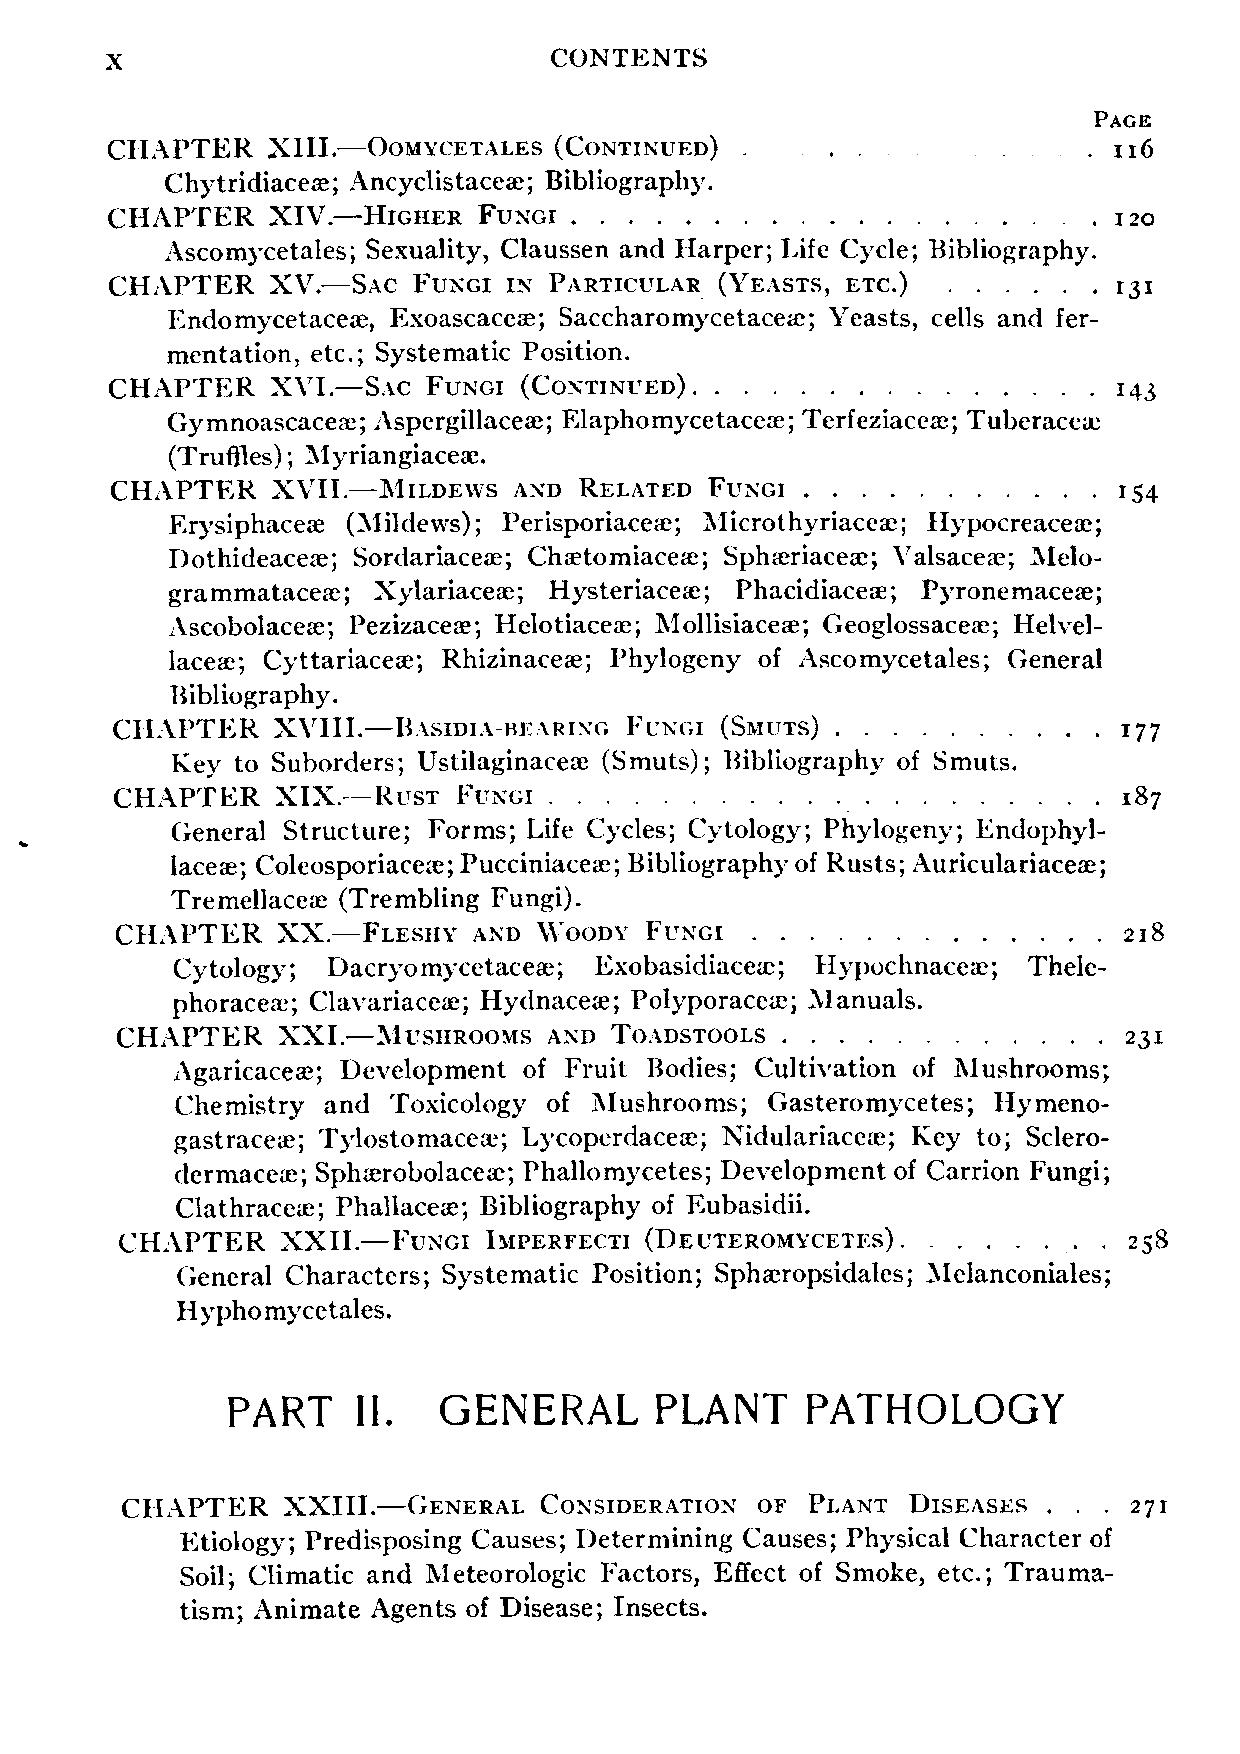TOC_chapter: (107, 476, 1108, 705), (109, 1019, 1113, 1224), (114, 1491, 1117, 1637), (111, 786, 1100, 914), (98, 268, 1100, 366), (109, 917, 1111, 1015), (102, 372, 1100, 470), (114, 1232, 1111, 1329), (98, 203, 1106, 268), (107, 713, 1023, 778), (221, 1384, 1067, 1440), (97, 127, 727, 196)
TOC_pagenumber: (1118, 772, 1164, 820), (1100, 132, 1159, 166), (1117, 468, 1159, 513), (1130, 1486, 1172, 1531), (1111, 262, 1154, 305), (1114, 372, 1159, 411), (1121, 919, 1169, 956), (1108, 196, 1159, 229), (1125, 1223, 1170, 1259), (1121, 1023, 1166, 1057), (1118, 711, 1161, 747)
chapter: (539, 43, 718, 76)
